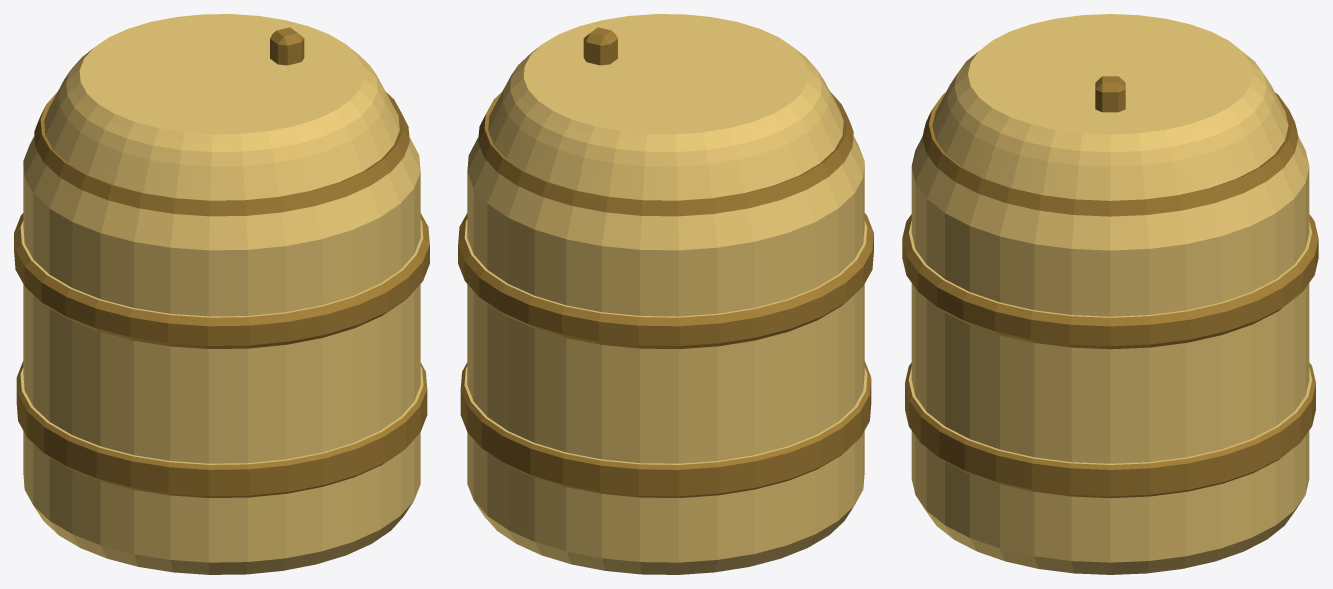
File: CustomBurrel.fbx
3 renders of one model, left to right at view 1: azimuth 30°, elevation 25°; view 2: azimuth 150°, elevation 25°; view 3: azimuth 270°, elevation 25°, orthographic.
Visible parts, largest first — view 1: Cylinder; view 2: Cylinder; view 3: Cylinder.
Boxes of the visible parts, bbox=[...] form: Cylinder: bbox=[14, 14, 429, 574]; Cylinder: bbox=[458, 14, 873, 574]; Cylinder: bbox=[902, 14, 1318, 574].
Bounding box in the file's own units: 209 × 248 × 209.
